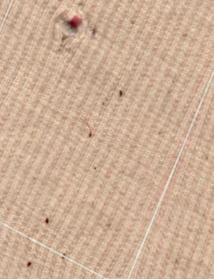hole: (54, 10, 98, 49)
stain: (76, 121, 104, 144), (21, 253, 42, 276), (36, 212, 62, 230), (110, 82, 132, 103)
